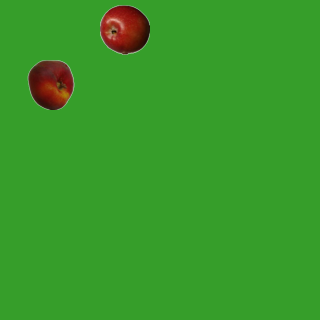Apple Braeburn: (99, 4, 149, 54)
Nectarine Flat: (25, 59, 75, 109)
